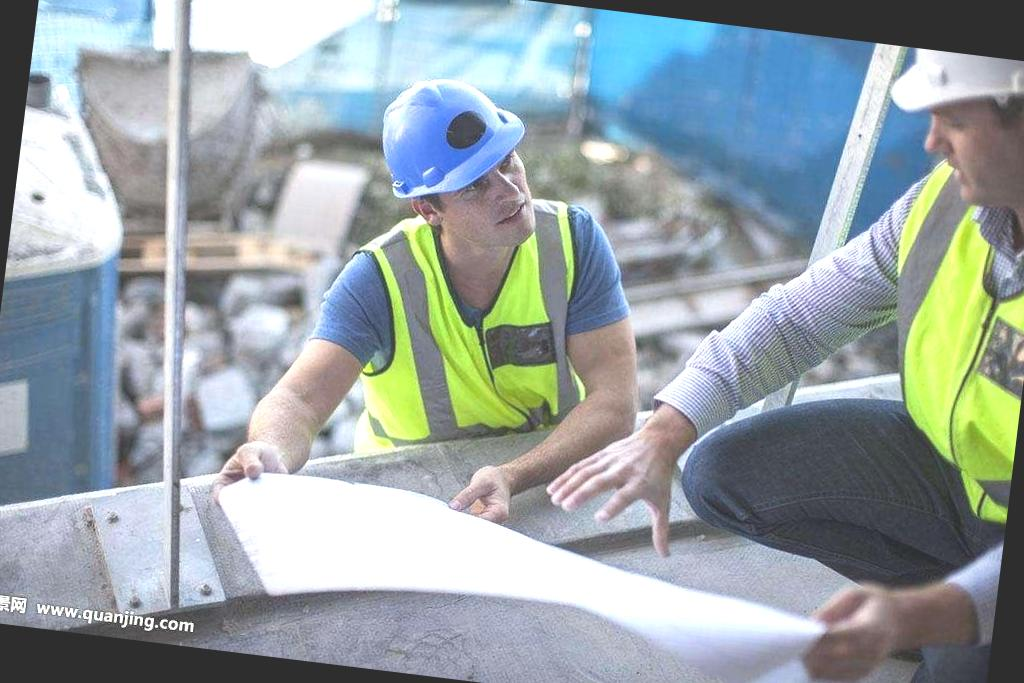helmet: (369, 70, 538, 220)
person: (285, 65, 655, 558), (749, 37, 1024, 680)
